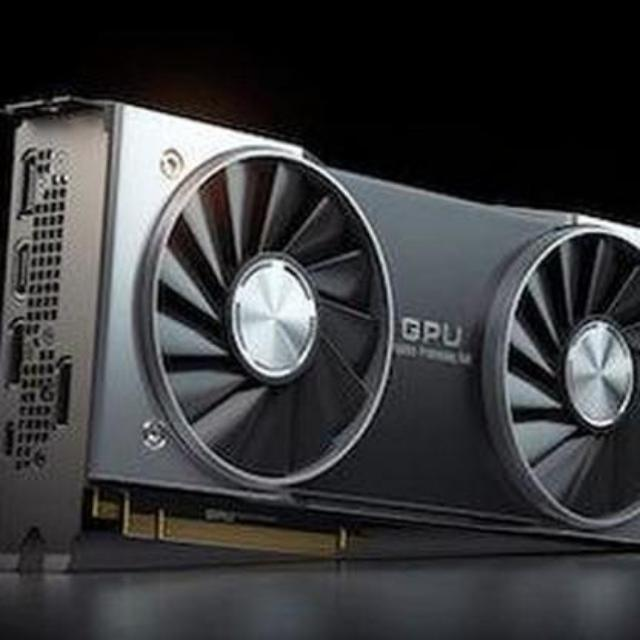GPU: (0, 102, 640, 580)
